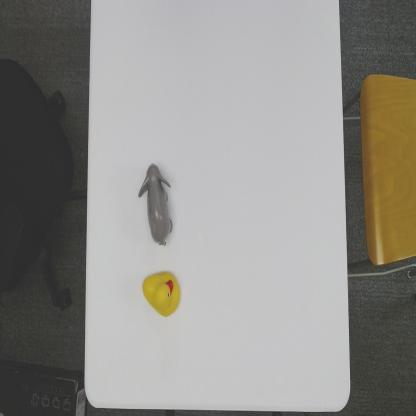Duck: (141, 269, 182, 319)
Elephant: (138, 160, 173, 250)
